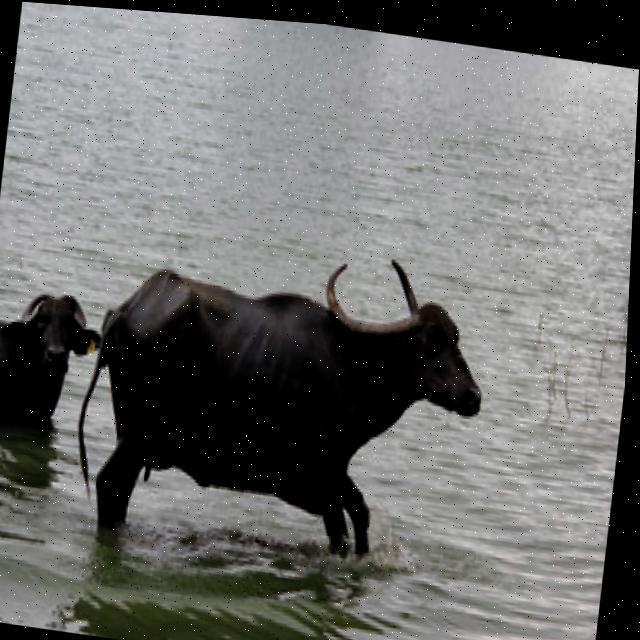Buffalo: (72, 217, 501, 572), (0, 269, 103, 430)
